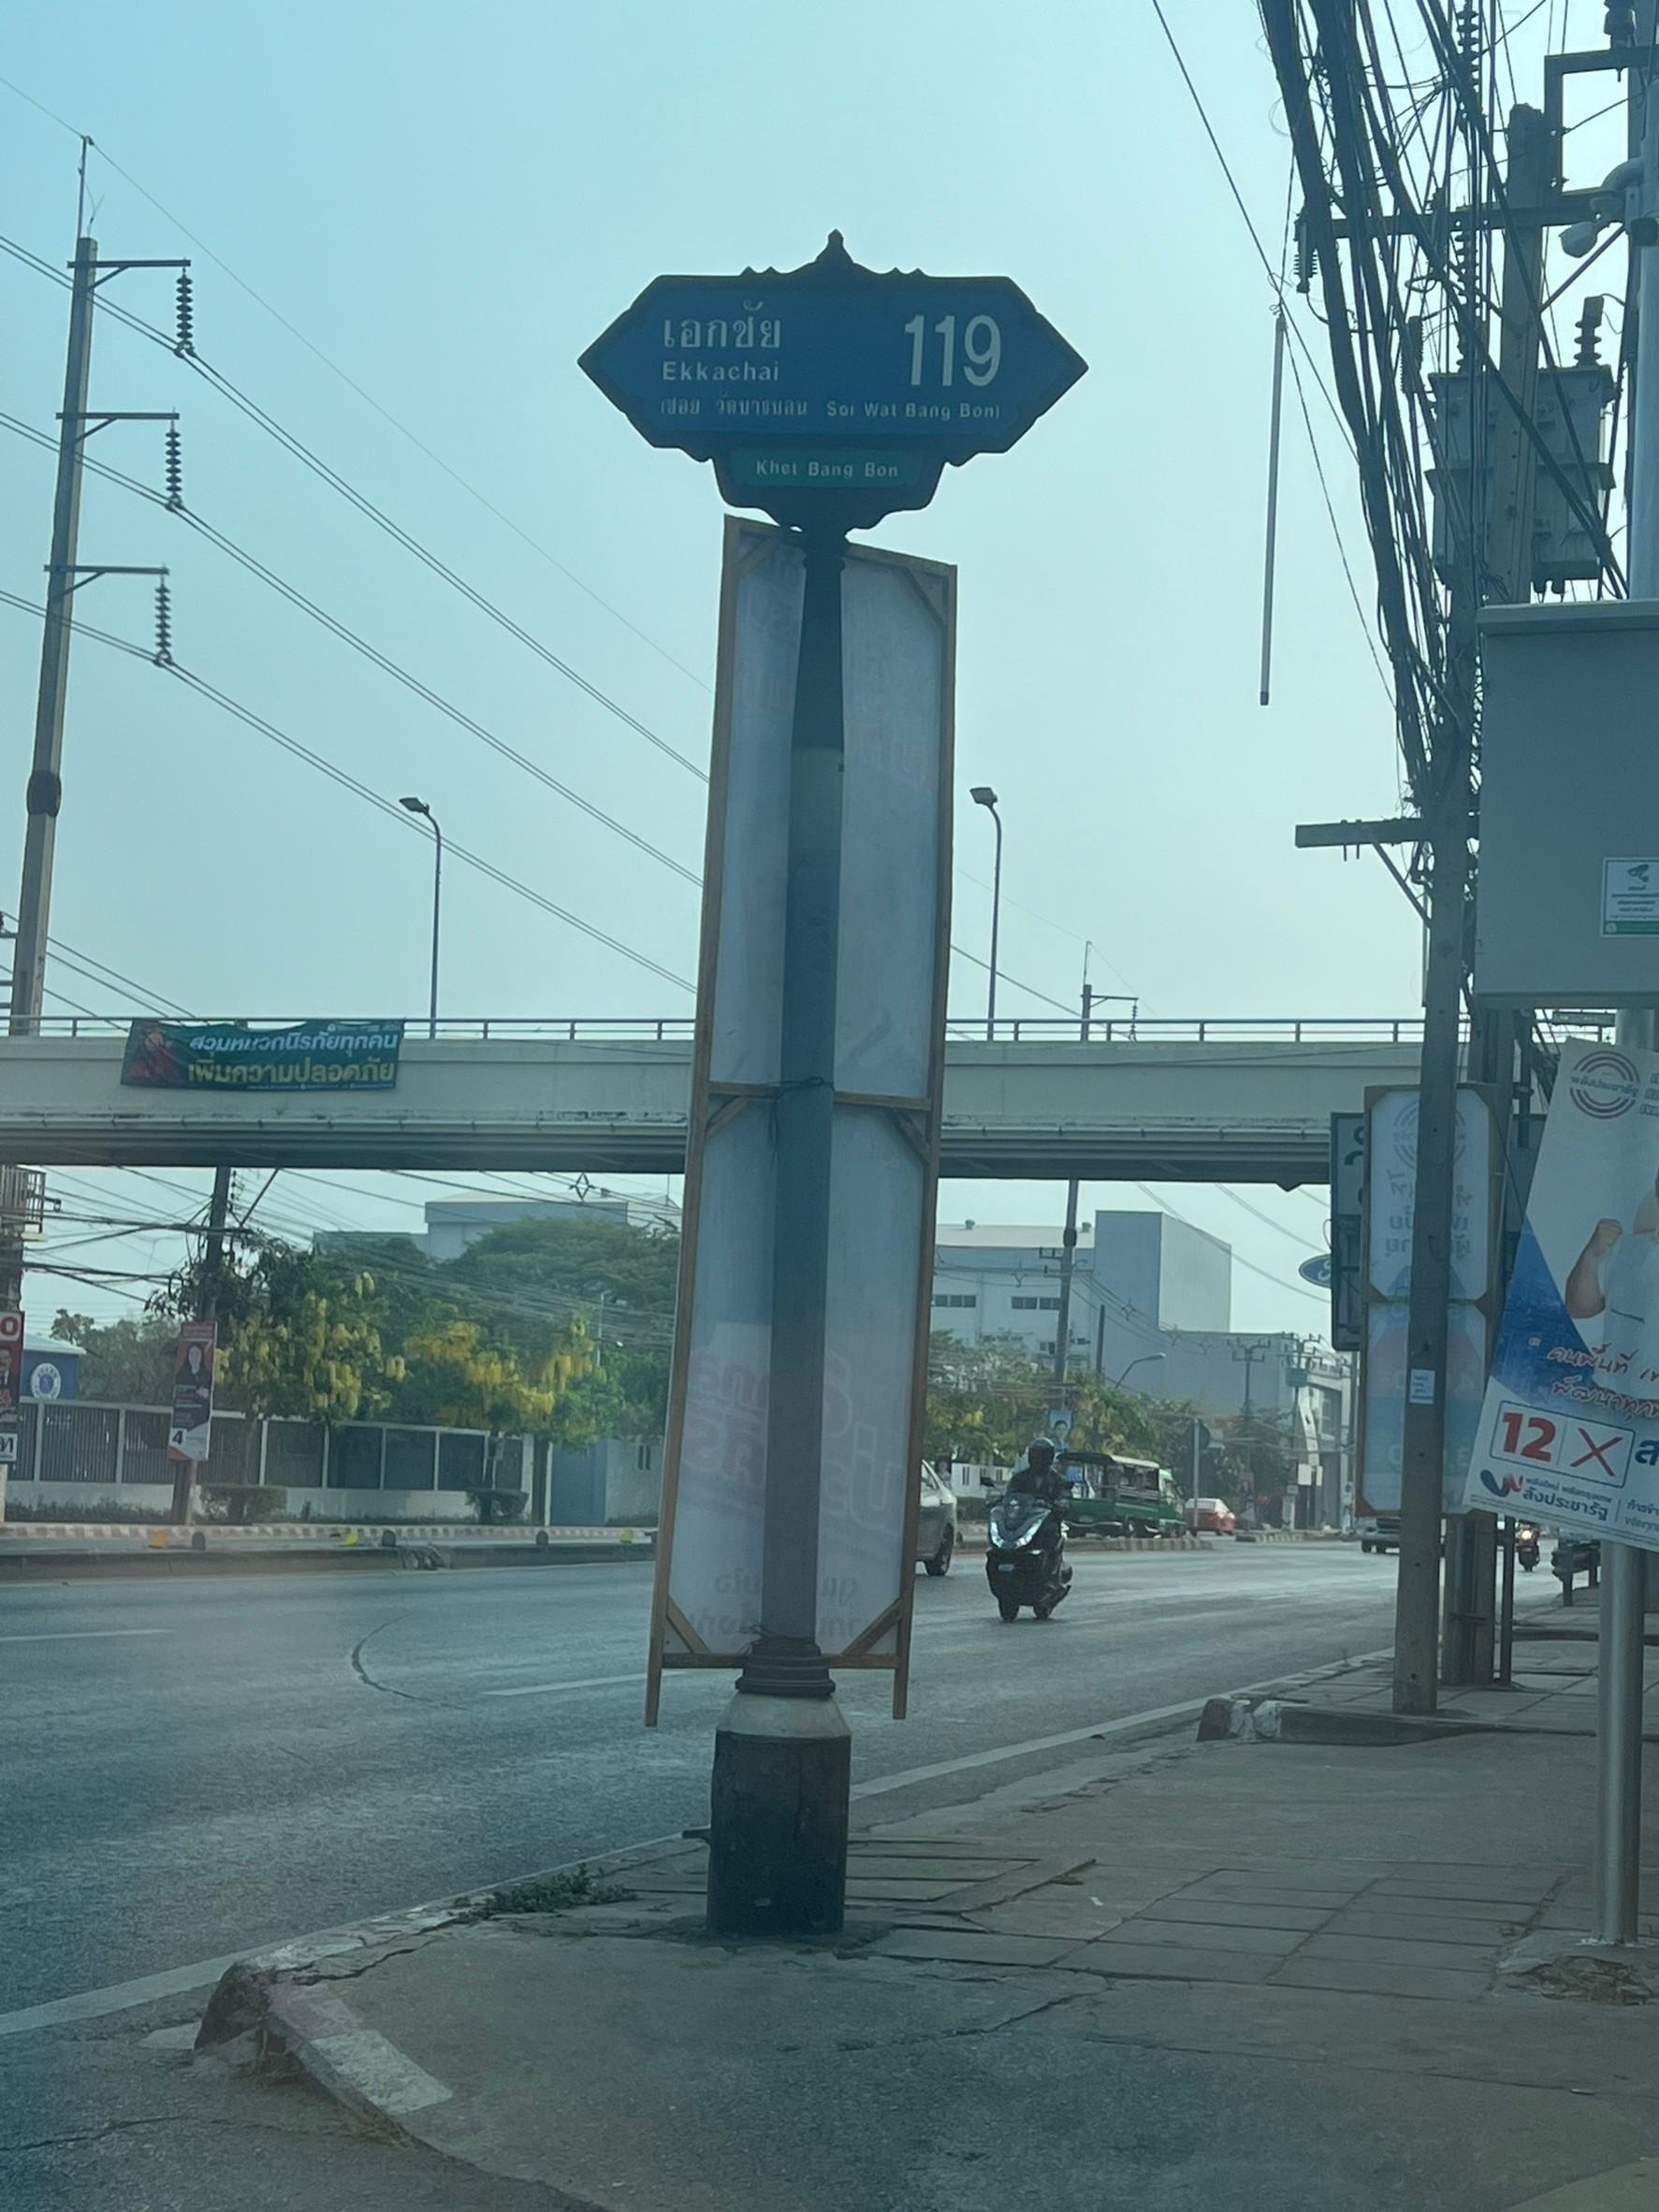Banner: (1452, 1031, 1659, 1564)
